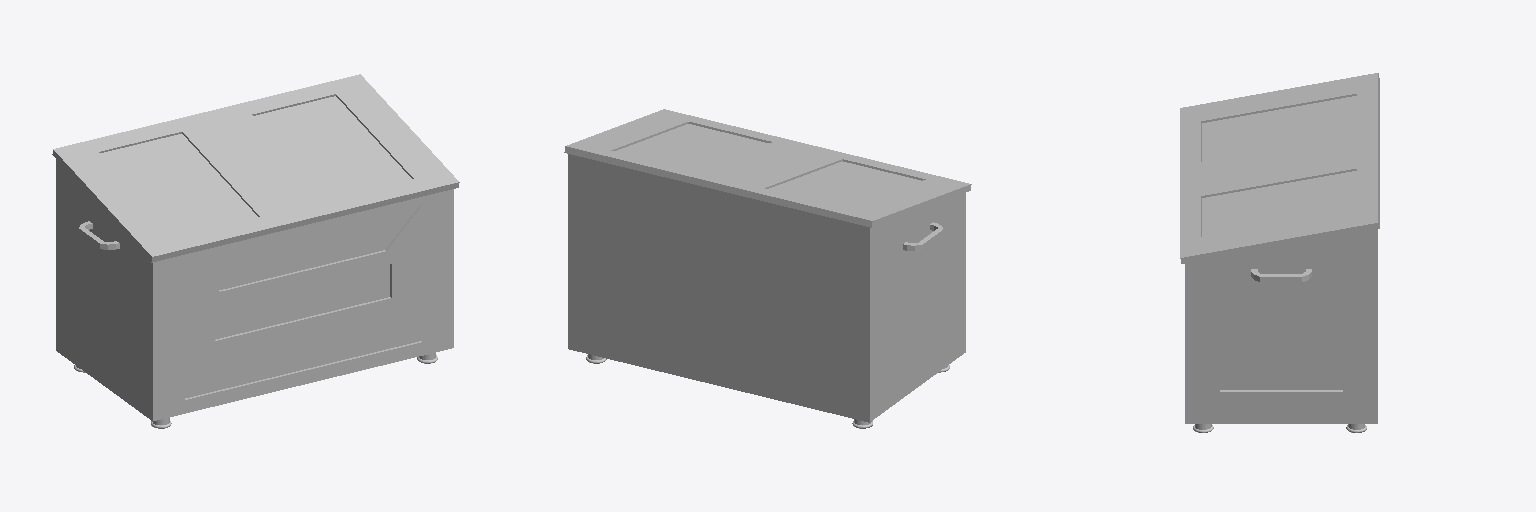
The model's file is qweqwe.obj.
3 views of the same model, side by side, from view 1: azimuth 30°, elevation 25°; view 2: azimuth 150°, elevation 25°; view 3: azimuth 270°, elevation 25° (orthographic).
Visible parts, largest first — view 1: Object.1; view 2: Object.1; view 3: Object.1.
Part boxes in pixels (bbox=[...]): Object.1: bbox=[52, 74, 459, 428]; Object.1: bbox=[564, 109, 971, 428]; Object.1: bbox=[1180, 73, 1379, 432].
Size of the model in its own units: 4.4 by 2.75 by 2.29.